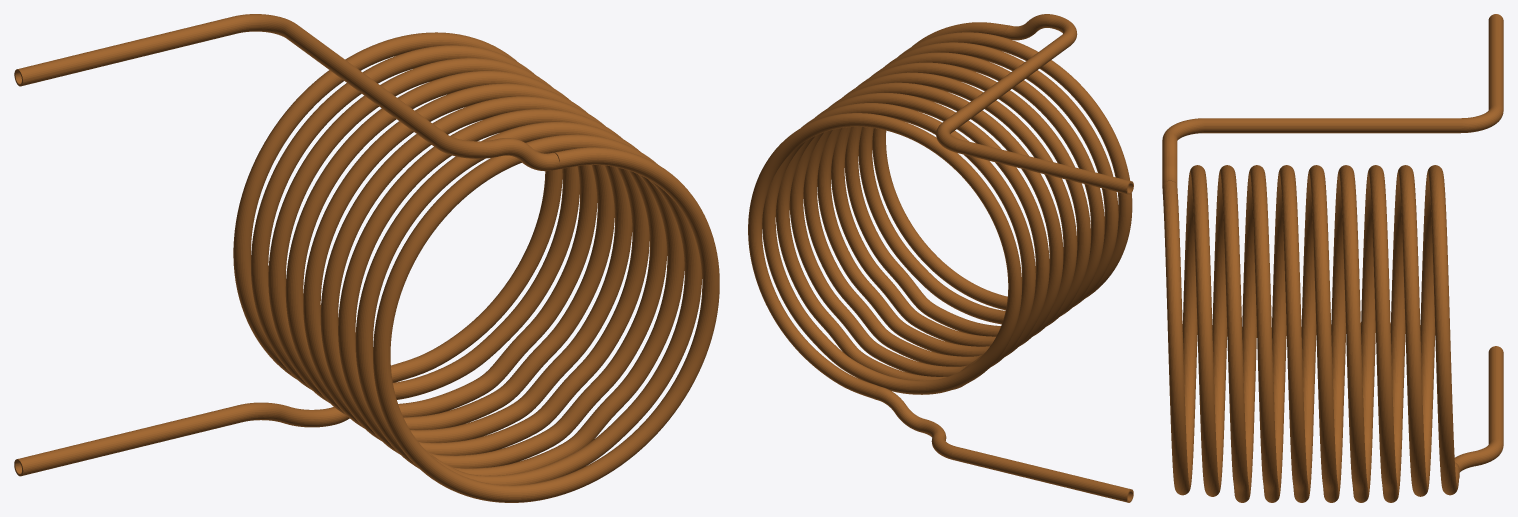
File: coil.glb
3 renders of one model, left to right at view 1: azimuth 30°, elevation 25°; view 2: azimuth 150°, elevation 25°; view 3: azimuth 270°, elevation 25°, orthographic. The views are drawn at different scales.
Visible parts, largest first — view 1: coil saved shape; view 2: coil saved shape; view 3: coil saved shape.
Boxes of the visible parts, box(x1,y1,x2,y2) form: coil saved shape: box(14, 14, 719, 502); coil saved shape: box(748, 14, 1133, 502); coil saved shape: box(1162, 14, 1503, 502).
Size of the model in its own units: 213 by 161 by 144.
